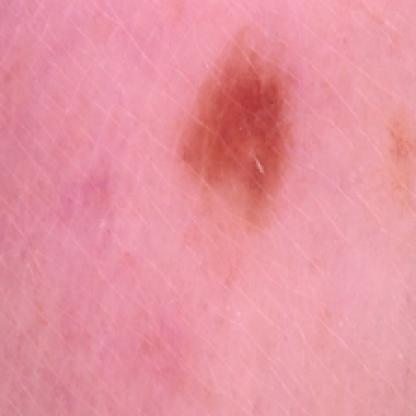benign: (180, 41, 301, 228)
